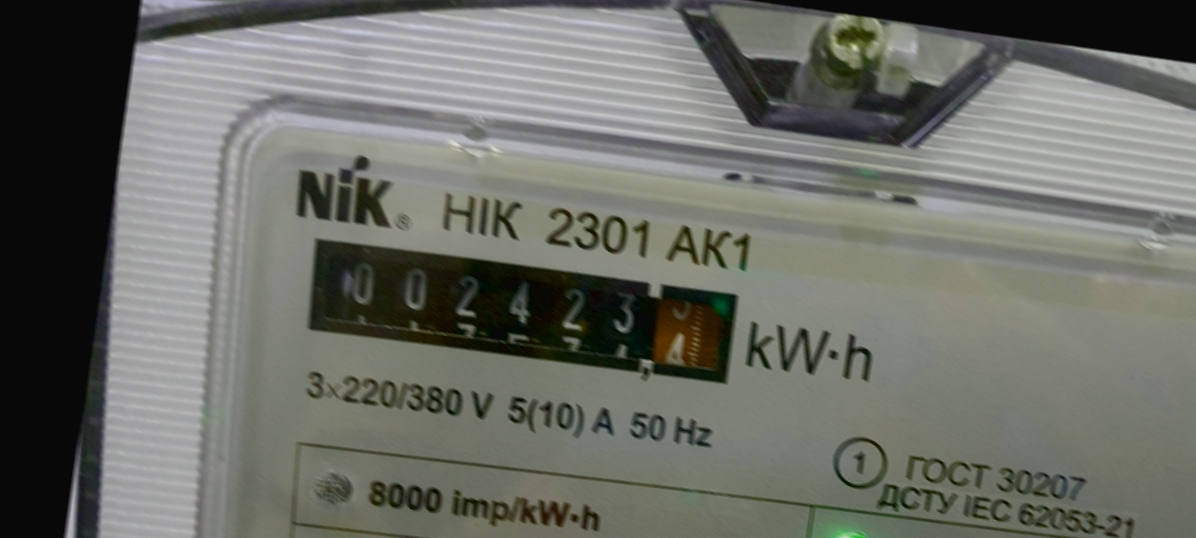0: (347, 256, 381, 307), (401, 264, 432, 312)
2: (452, 269, 484, 319), (559, 284, 588, 332)
3: (610, 288, 639, 335), (670, 296, 694, 321)
4: (506, 277, 535, 325), (662, 326, 692, 367)
screen: (292, 221, 754, 401)
